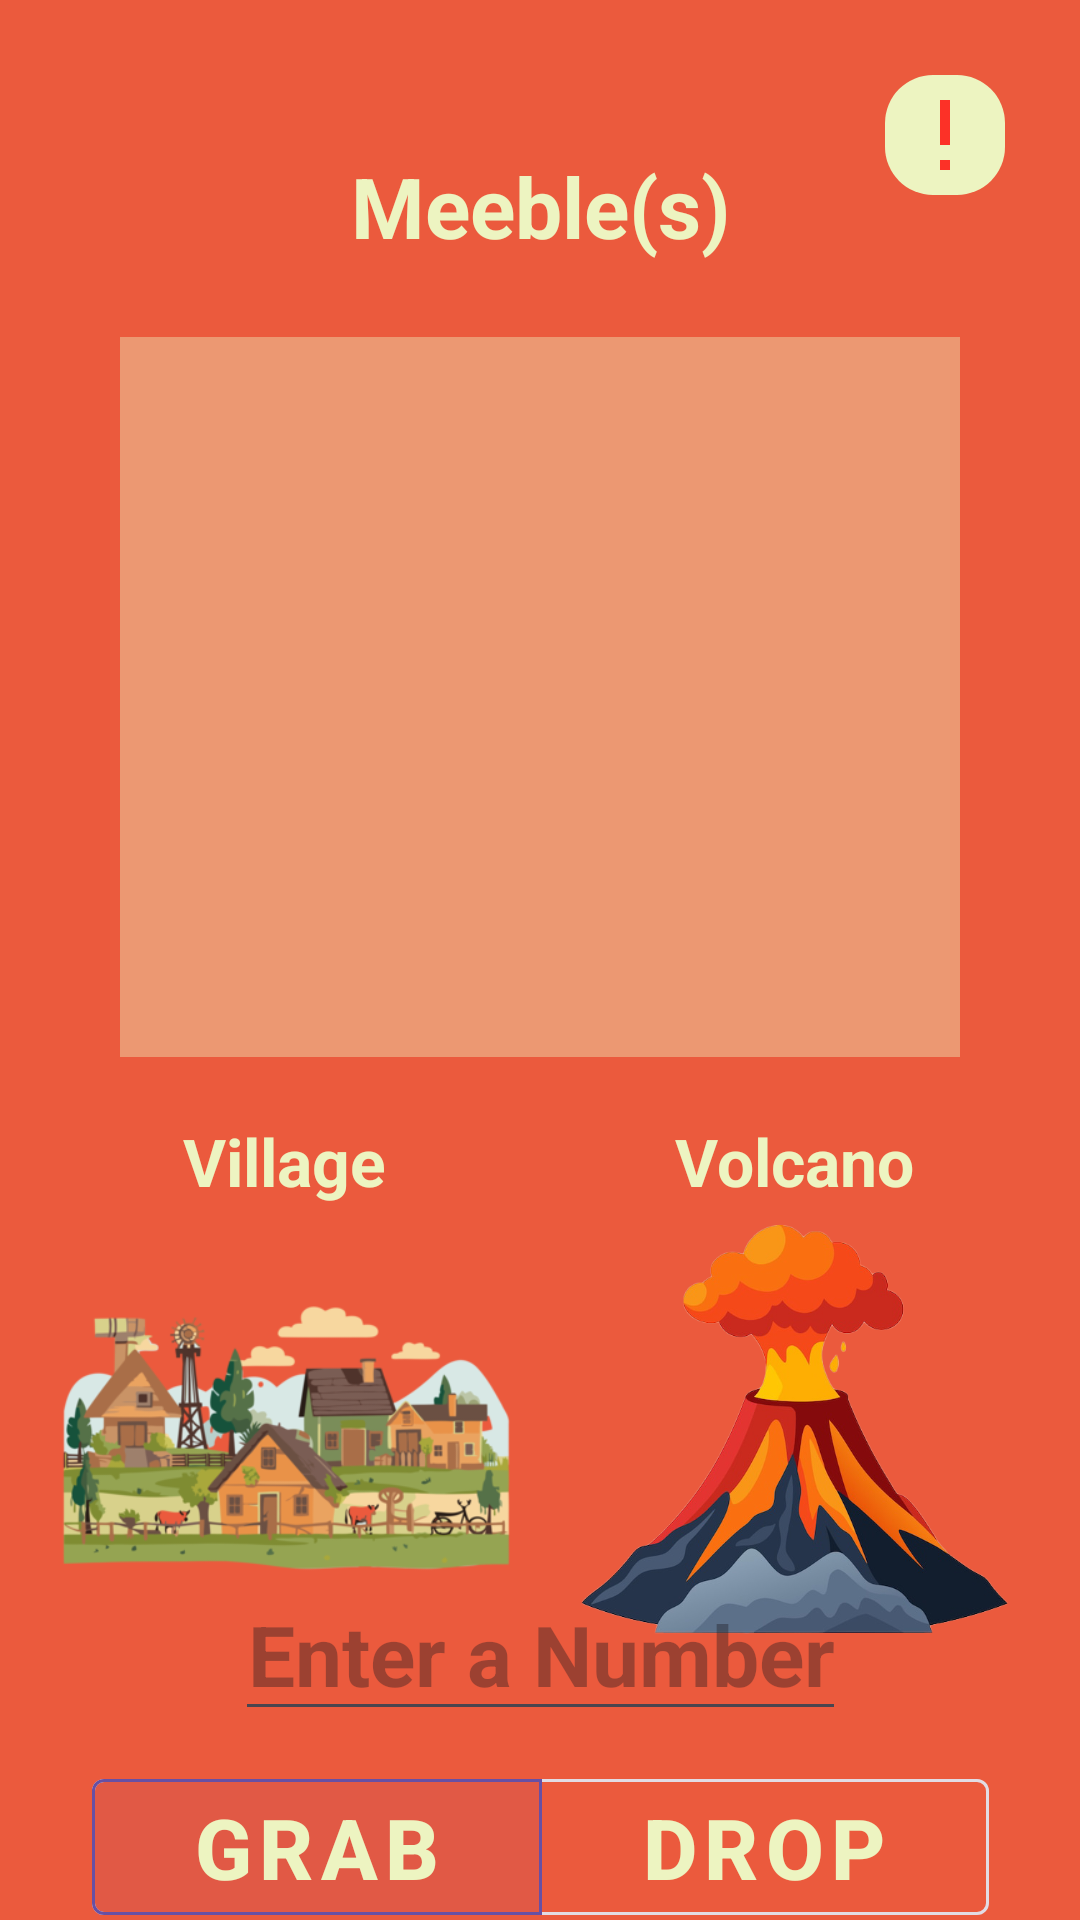

Where icons sit on this 1080px x 1920px app screen, as bbox=(x1, y1, x2, y2):
exclamation: bbox=(885, 75, 1005, 195)
